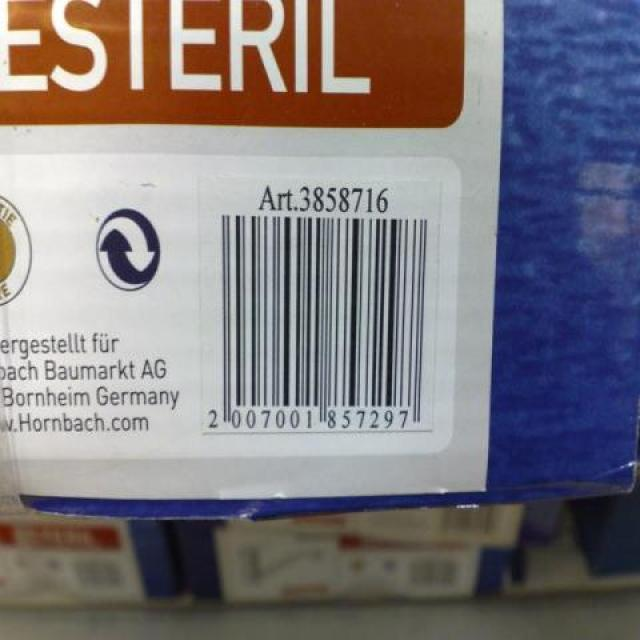Barcode: (197, 172, 443, 455)
